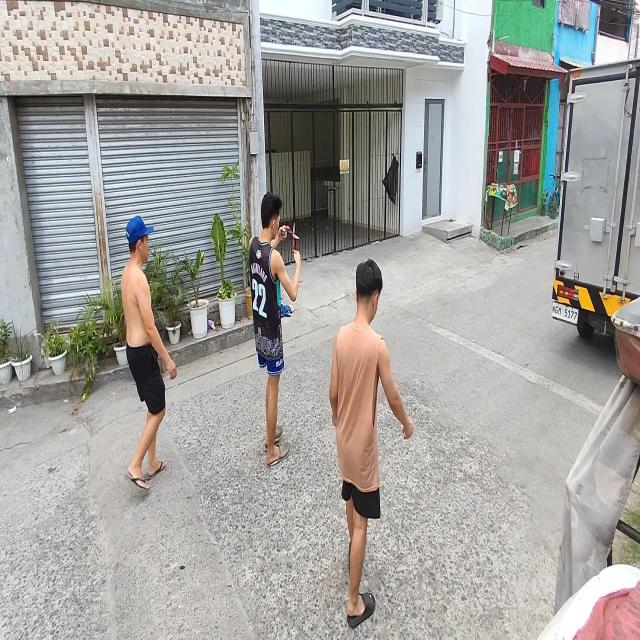scissor: (286, 222, 299, 252)
